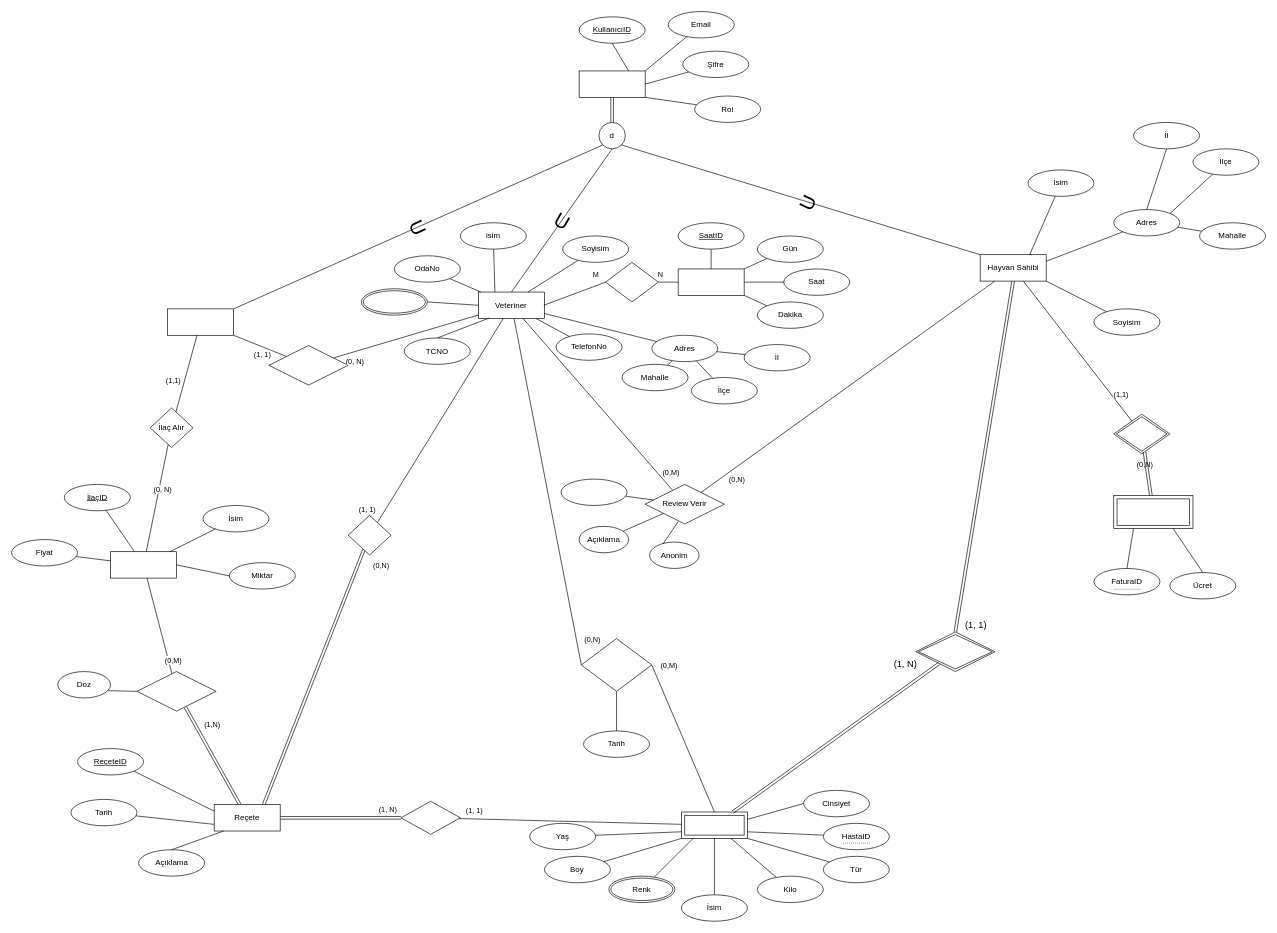
Some shapes in this 1277 by 933 pixel diagram are drawn without their labels. Each missing label, with the box of its shape:
Admin: (167, 308, 234, 335)
Ekler: (268, 345, 348, 385)
Hasta Hayvan: (681, 811, 747, 838)
İlaçlar: (110, 551, 177, 578)
İçerir: (136, 671, 216, 711)
Kullanıcı: (578, 70, 645, 97)
Muayene Faturası: (1113, 495, 1193, 529)
Puan: (560, 478, 627, 505)
Randevu: (581, 638, 652, 691)
Saatler: (677, 268, 744, 295)
Sahip: (915, 631, 995, 672)
Uygundur: (605, 262, 658, 302)
Var: (400, 801, 460, 834)
Yazar: (347, 515, 391, 555)
Yetkinlik: (361, 288, 427, 315)
Öder: (1113, 413, 1170, 454)
